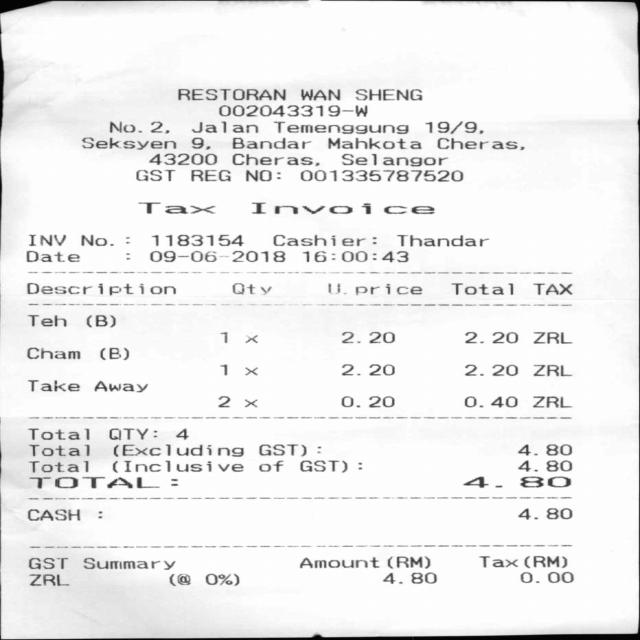text: (208, 623, 416, 640), (251, 202, 433, 214), (273, 120, 407, 134), (29, 475, 161, 489), (27, 282, 176, 294), (300, 170, 462, 181), (111, 444, 242, 457), (148, 250, 285, 262), (218, 105, 366, 116), (111, 460, 242, 472), (341, 153, 446, 166), (300, 250, 408, 262), (0, 623, 81, 639), (177, 88, 284, 100), (463, 476, 570, 488), (272, 234, 375, 246), (480, 554, 566, 568), (83, 557, 174, 570), (436, 137, 524, 150), (326, 283, 421, 295), (231, 153, 318, 166), (326, 137, 420, 149), (82, 137, 175, 149), (396, 234, 488, 246), (152, 234, 242, 246), (468, 623, 530, 640), (298, 556, 377, 568), (138, 202, 214, 214), (231, 137, 310, 148), (28, 427, 92, 440), (148, 153, 216, 165), (190, 120, 257, 132), (298, 460, 361, 472), (424, 121, 482, 134), (258, 444, 320, 456), (354, 89, 421, 100), (339, 331, 394, 344), (109, 121, 168, 133), (29, 444, 88, 456), (28, 460, 87, 472), (449, 283, 512, 294), (26, 250, 80, 262), (26, 347, 79, 359), (341, 364, 394, 376), (519, 571, 572, 583), (464, 331, 516, 343), (464, 364, 516, 376), (94, 380, 146, 392), (27, 379, 78, 391), (516, 508, 570, 519), (464, 396, 516, 407), (518, 444, 570, 455), (518, 460, 570, 471), (27, 509, 79, 520), (107, 427, 150, 440), (386, 555, 429, 568), (340, 396, 393, 406), (28, 314, 66, 327), (190, 169, 230, 181), (232, 282, 272, 294), (136, 169, 174, 181), (532, 332, 570, 344), (28, 574, 66, 586), (28, 234, 65, 246), (300, 89, 340, 100), (244, 169, 280, 181), (535, 283, 571, 295), (531, 396, 570, 407), (205, 573, 238, 586), (532, 365, 570, 376), (28, 558, 66, 569), (81, 234, 109, 247), (84, 315, 114, 327), (99, 348, 128, 360), (410, 572, 435, 584), (168, 573, 189, 586), (258, 461, 282, 472), (382, 572, 401, 584), (191, 137, 209, 149), (242, 334, 258, 344), (217, 395, 229, 407), (174, 428, 187, 439), (243, 366, 256, 376), (219, 364, 228, 375), (244, 399, 256, 407), (220, 331, 227, 344), (97, 510, 101, 518)
